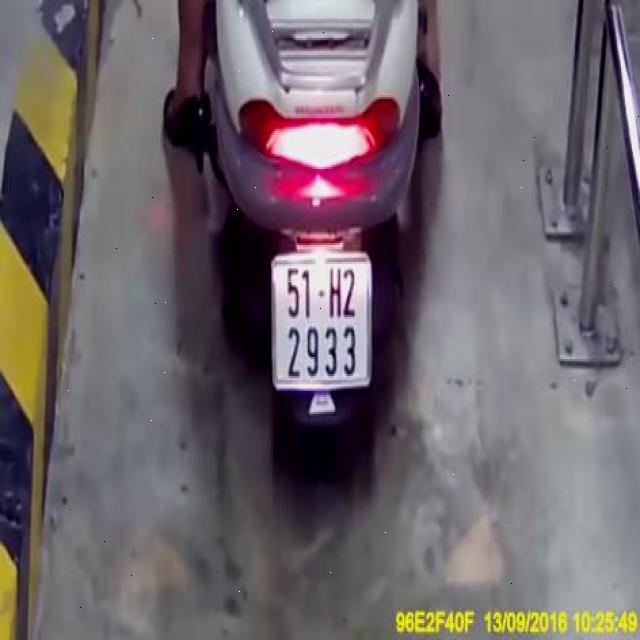1: (301, 268, 314, 319)
2: (344, 263, 359, 323), (287, 323, 302, 380)
3: (341, 326, 360, 379), (325, 323, 338, 382)
5: (282, 265, 302, 320)
9: (305, 324, 321, 379)
H: (328, 267, 342, 320)
